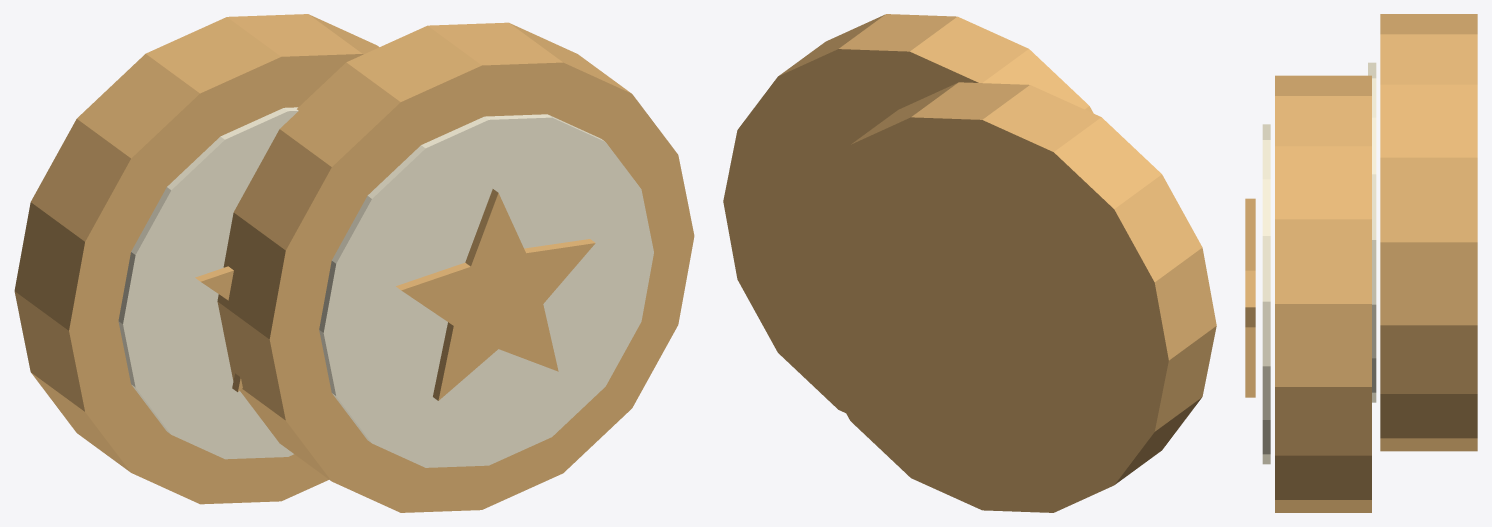
File: double-coin.glb
3 views of the same model, side by side, from view 1: azimuth 30°, elevation 25°; view 2: azimuth 150°, elevation 25°; view 3: azimuth 270°, elevation 25° (orthographic). The views are drawn at different scales.
Parts seen in each view (by area): view 1: collectible; view 2: collectible; view 3: collectible.
Boxes of the visible parts, bbox=[...] form: collectible: bbox=[14, 14, 694, 512]; collectible: bbox=[723, 14, 1216, 512]; collectible: bbox=[1245, 14, 1477, 512].
Size of the model in its own units: 1.44 by 1.08 by 0.5725.
